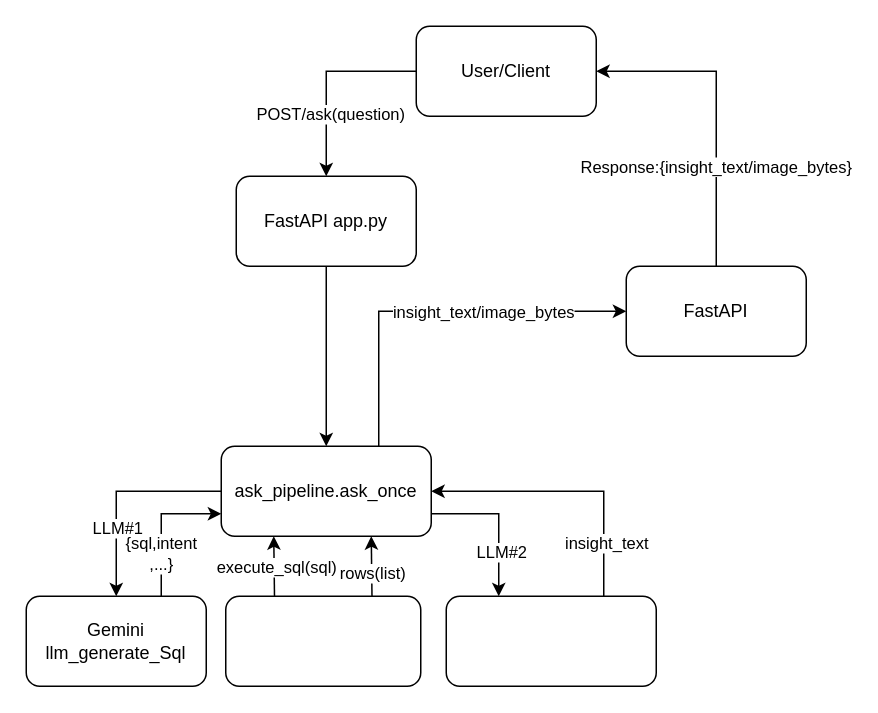
Some shapes in this 878 by 713 pixel diagram are drawn without their labels. The centre of each missing label's shape, as x and y in pixels:
"(SQLite) artifacts/salesmart.db" belongs at point (322, 640).
"Gemini llm_make_insight(intent, params, answer_table)" belongs at point (550, 640).
